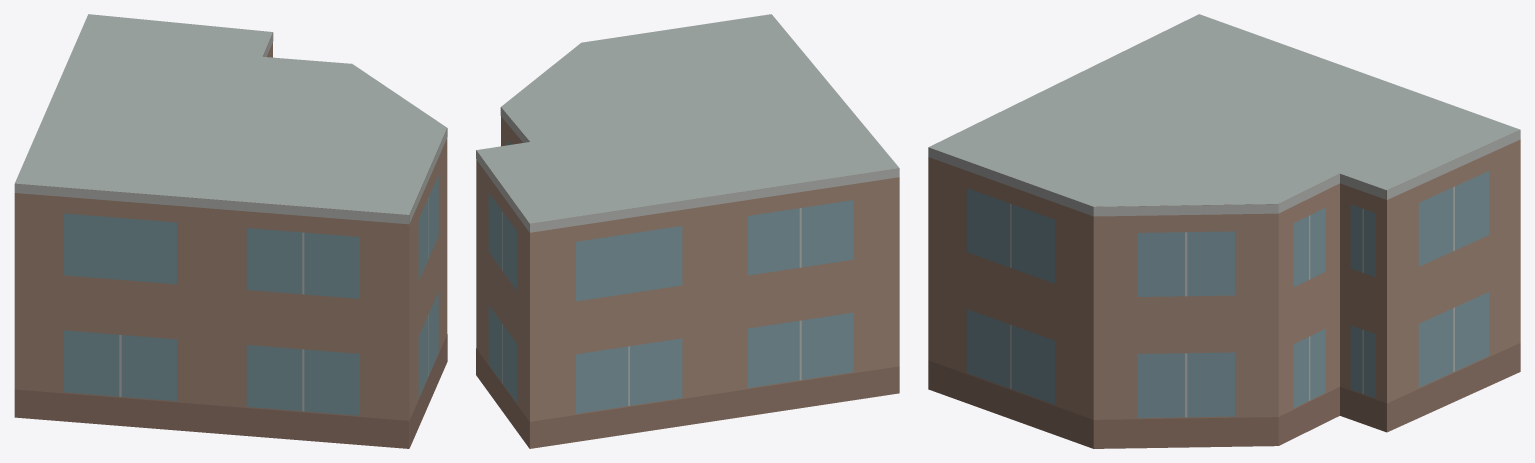
Rendered from survey-upis-32701875.glb.
3 views of the same model, side by side, from view 1: azimuth 30°, elevation 25°; view 2: azimuth 150°, elevation 25°; view 3: azimuth 270°, elevation 25° (orthographic). The views are drawn at different scales.
Parts seen in each view (by area): view 1: survey-upis-32701875.tmp; view 2: survey-upis-32701875.tmp; view 3: survey-upis-32701875.tmp.
Boxes of the visible parts, bbox=[...] form: survey-upis-32701875.tmp: bbox=[14, 14, 447, 448]; survey-upis-32701875.tmp: bbox=[476, 14, 899, 448]; survey-upis-32701875.tmp: bbox=[928, 14, 1520, 448].
Size of the model in its own units: 10.43 by 6.1 by 13.54.
